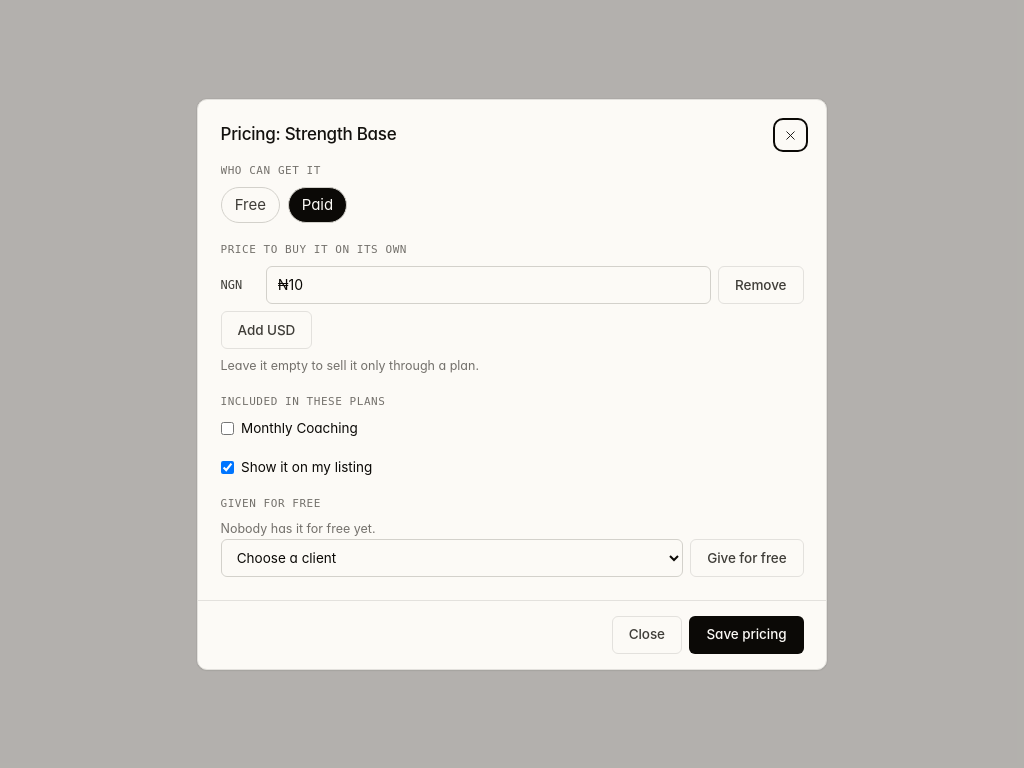
Test: ContentPricingModal › shows the API's refusal, e.g. a price below the minimum
Click the button "Free": (250,205) [220,187,280,223]
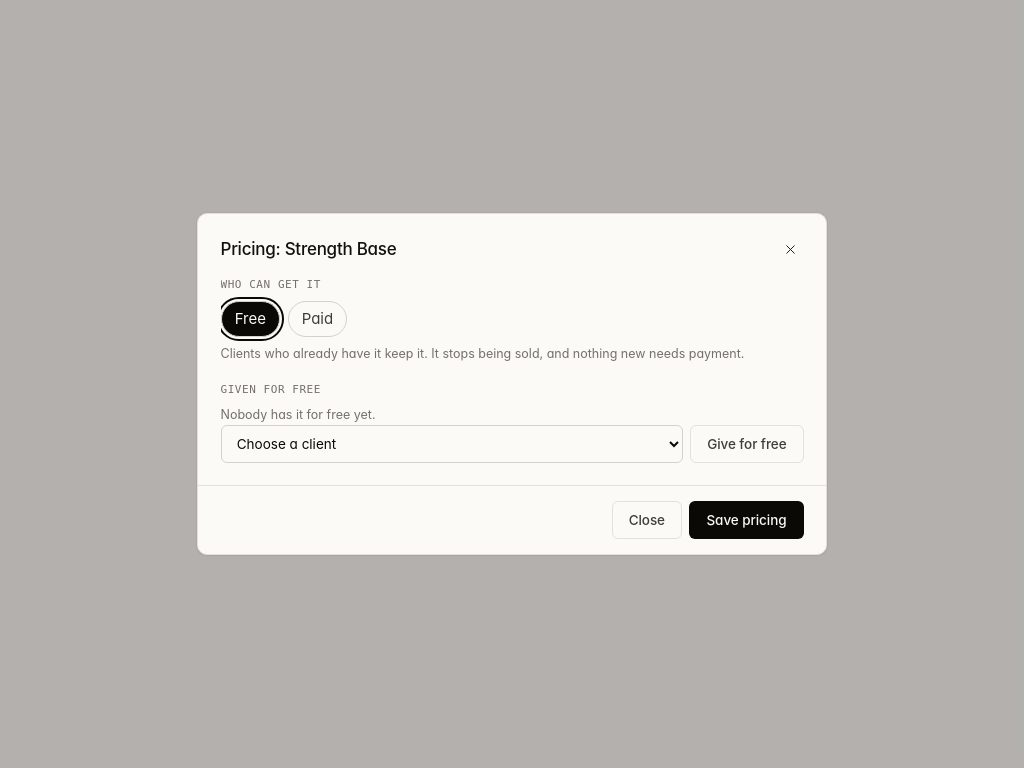
Click the button "Paid": (318,319) [288,301,347,337]
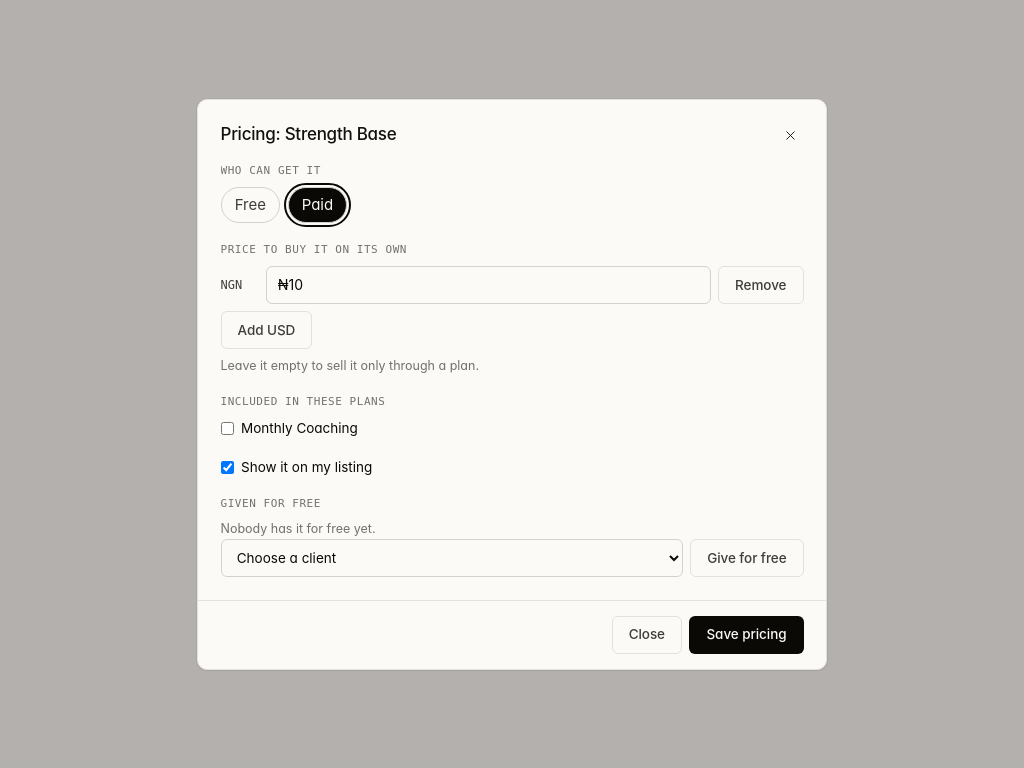
In the field named "Price in NGN": (488,285) [266,266,711,304], type "1"
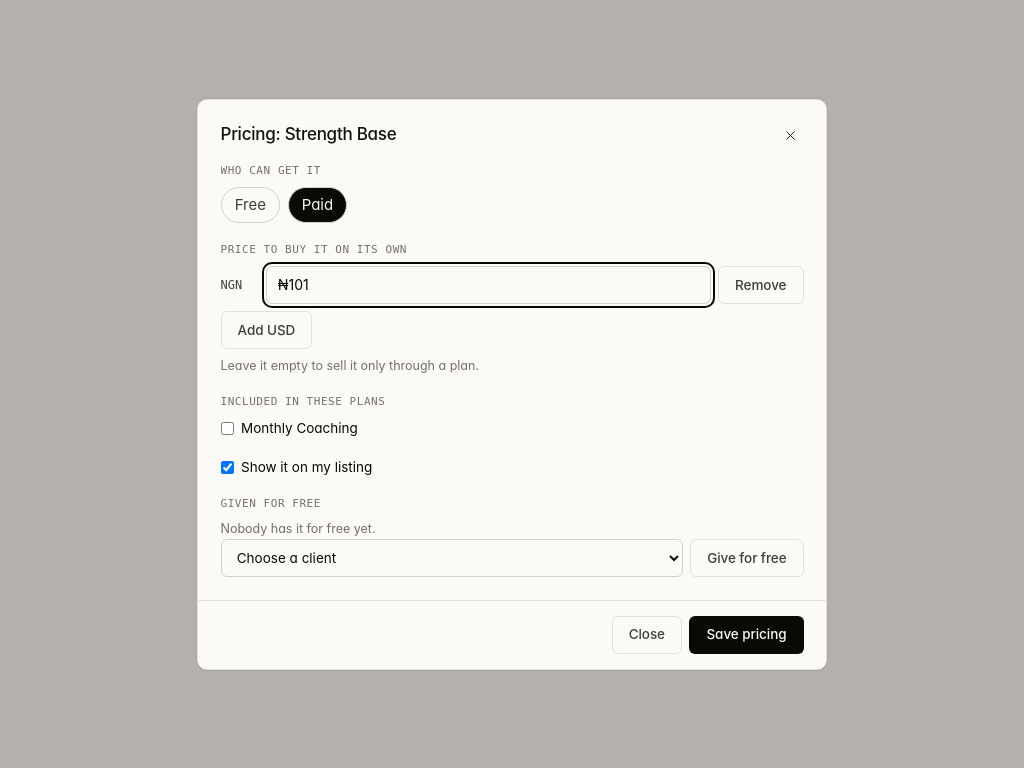
Click the button "Save pricing": (746,634) [690,616,804,654]
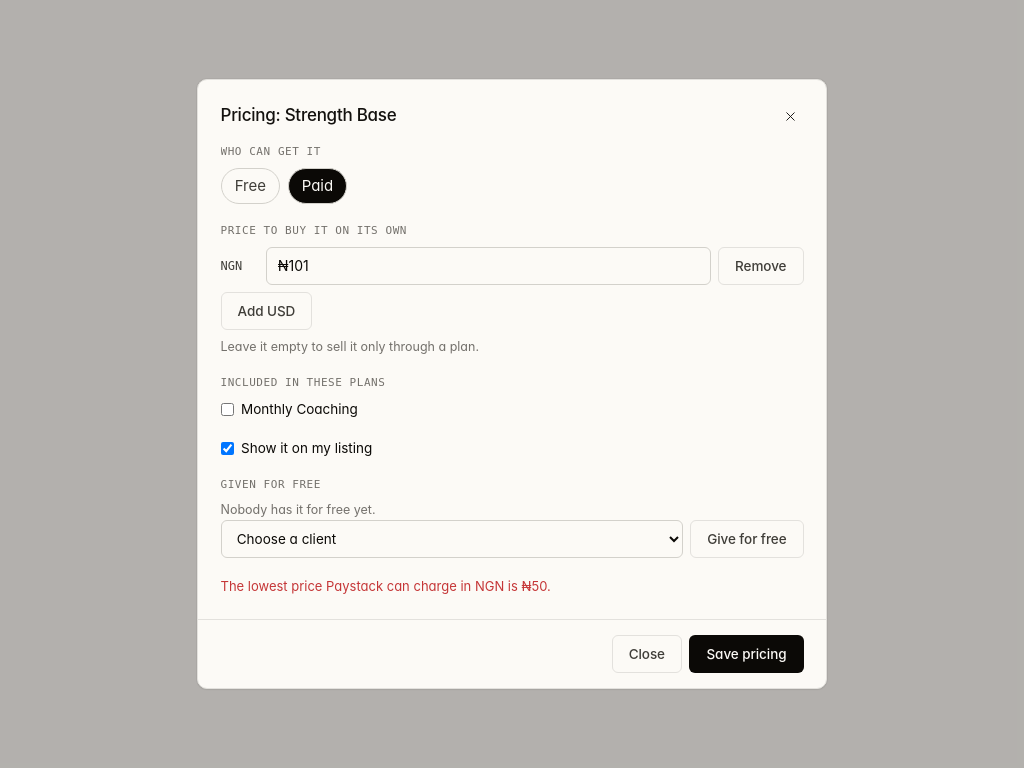
Expected: the message shows "lowest price Paystack can charge in NGN", [220,578,551,594]
